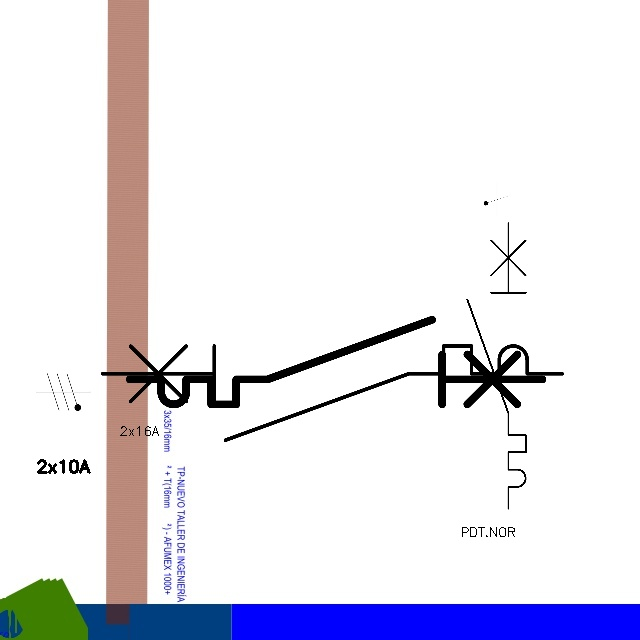interruptor_termomagnetico: (90, 334, 573, 452), (119, 309, 553, 415), (460, 215, 533, 515)
